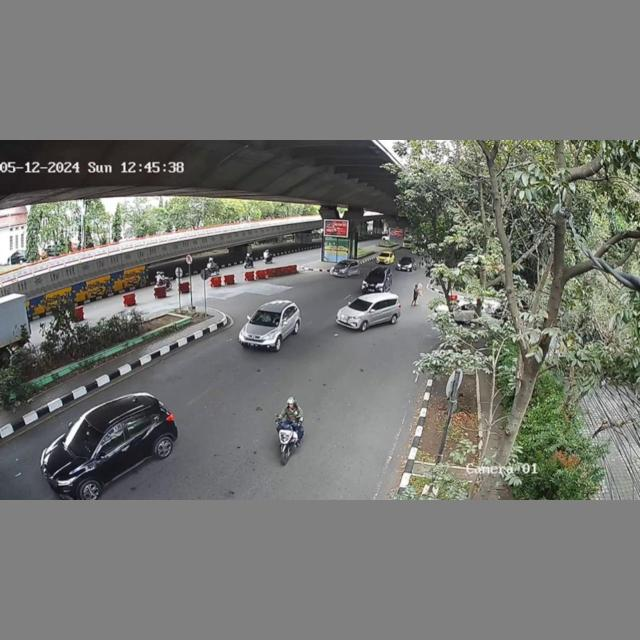windshield: (249, 309, 280, 328)
